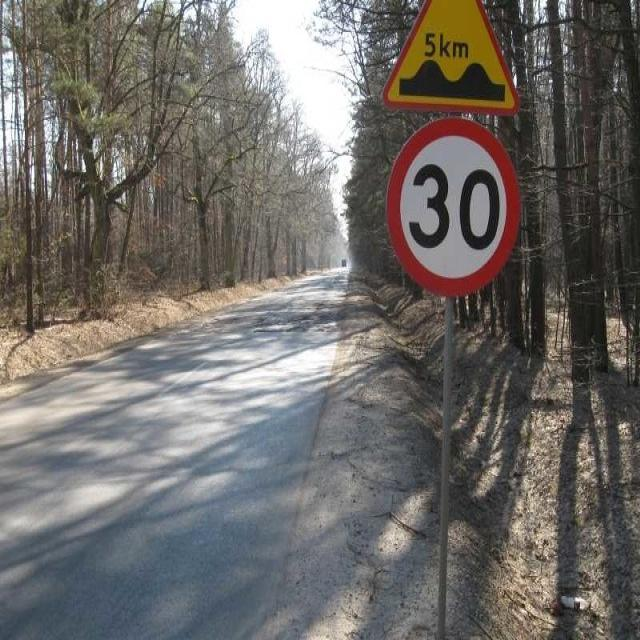Speed Limit -30-: (408, 161, 501, 252)
